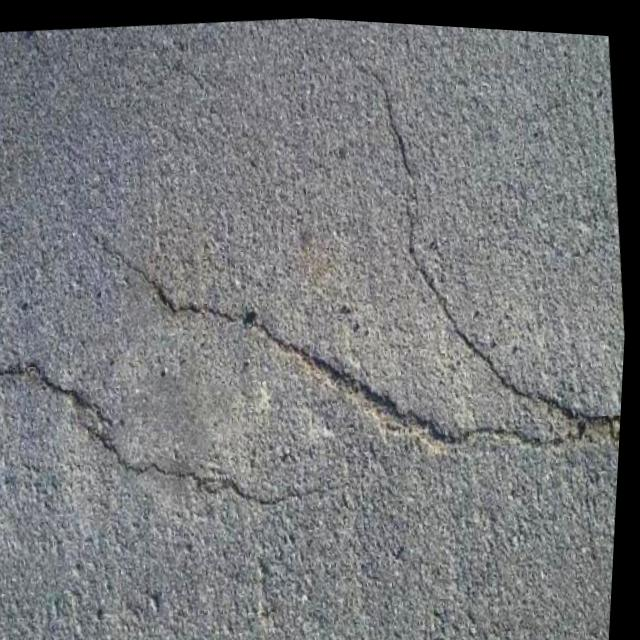Crack: (96, 189, 633, 506), (342, 35, 639, 460), (0, 304, 364, 545)
